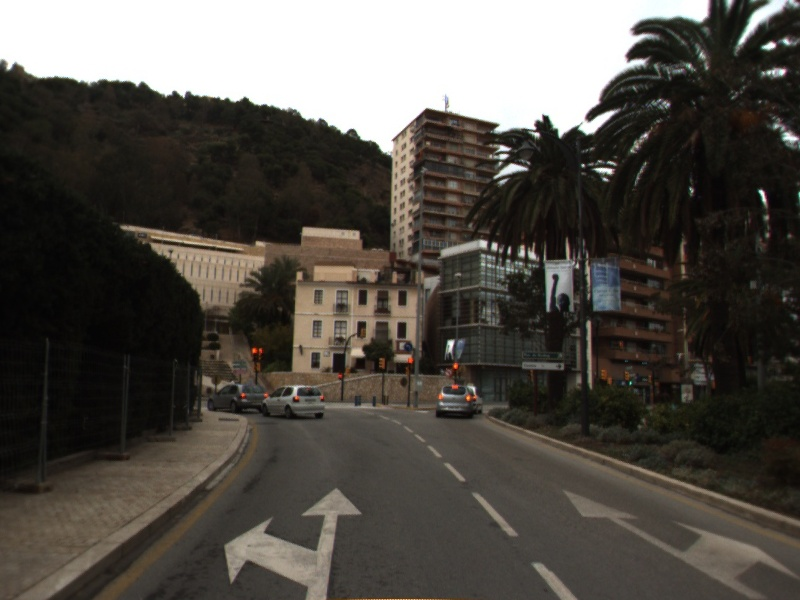STRAIGHT_LEFT: (222, 486, 364, 600)
STRAIGHT_RIGHT: (560, 487, 800, 600)
